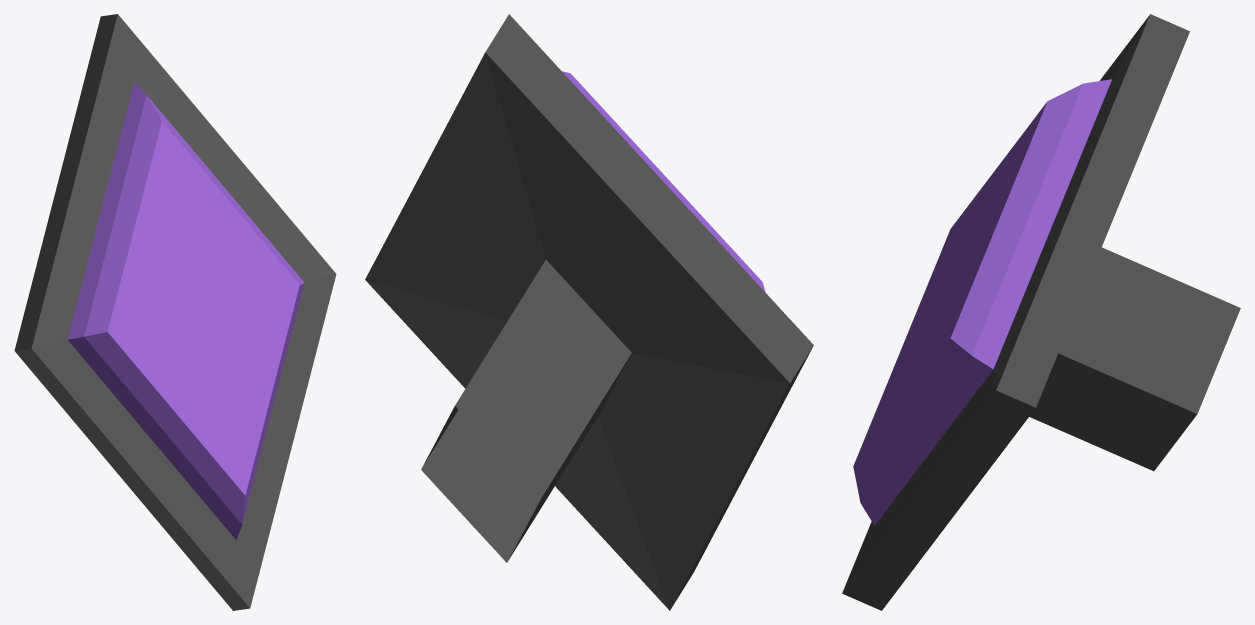
File: Crystal Switch Button.fbx
3 views of the same model, side by side, from view 1: azimuth 30°, elevation 25°; view 2: azimuth 150°, elevation 25°; view 3: azimuth 270°, elevation 25° (orthographic). The views are drawn at different scales.
Visible parts, largest first — view 1: Crystal Switch Button; view 2: Crystal Switch Button; view 3: Crystal Switch Button.
Boxes of the visible parts, box(x1,y1,x2,y2) form: Crystal Switch Button: box(14, 14, 336, 610); Crystal Switch Button: box(365, 14, 813, 610); Crystal Switch Button: box(842, 14, 1240, 610).
Bounding box in the file's own units: 54.08 × 86.86 × 52.59.
